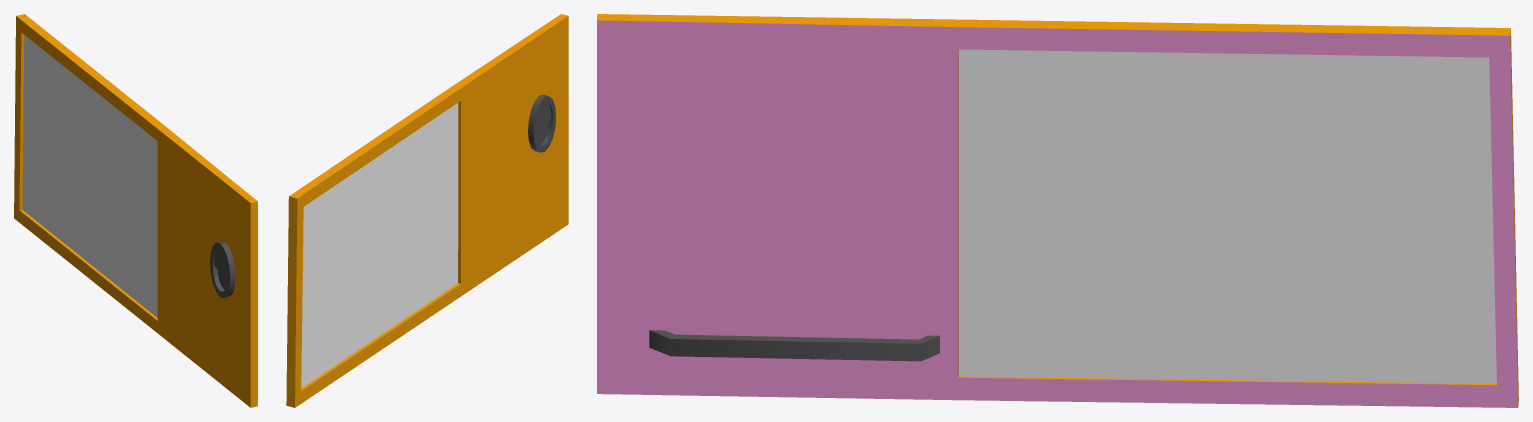
Rendered from WheelLoader_Cabin_01_DoorRight.fbx.
The picture shows the model from 3 angles, left to right: view 1: azimuth 30°, elevation 25°; view 2: azimuth 150°, elevation 25°; view 3: azimuth 270°, elevation 25°; orthographic projection. The views are drawn at different scales.
Parts seen in each view (by area): view 1: WheelLoader_Cabin_01_Door_R; view 2: WheelLoader_Cabin_01_Door_R; view 3: WheelLoader_Cabin_01_Door_R.
Boxes of the visible parts, x1=… form: WheelLoader_Cabin_01_Door_R: x1=14, y1=14, x2=257, y2=407; WheelLoader_Cabin_01_Door_R: x1=286, y1=14, x2=568, y2=407; WheelLoader_Cabin_01_Door_R: x1=597, y1=14, x2=1518, y2=407.
Size of the model in its own units: 0.1003 by 0.6852 by 1.53.
